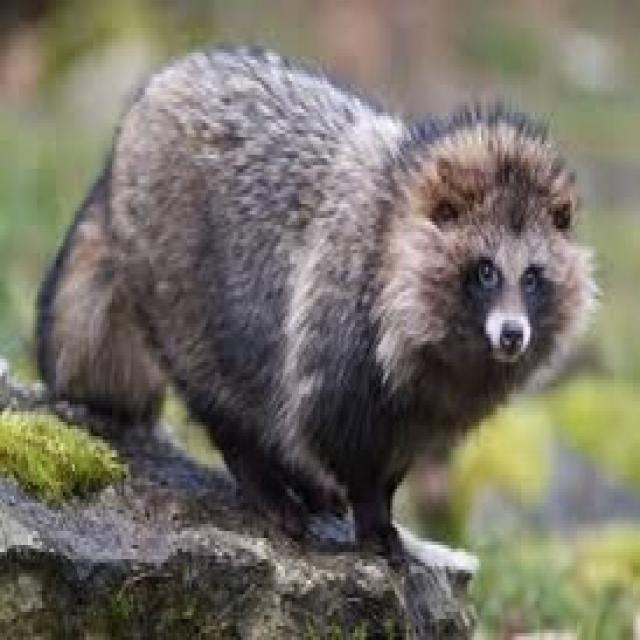racoon: (46, 86, 576, 540)
